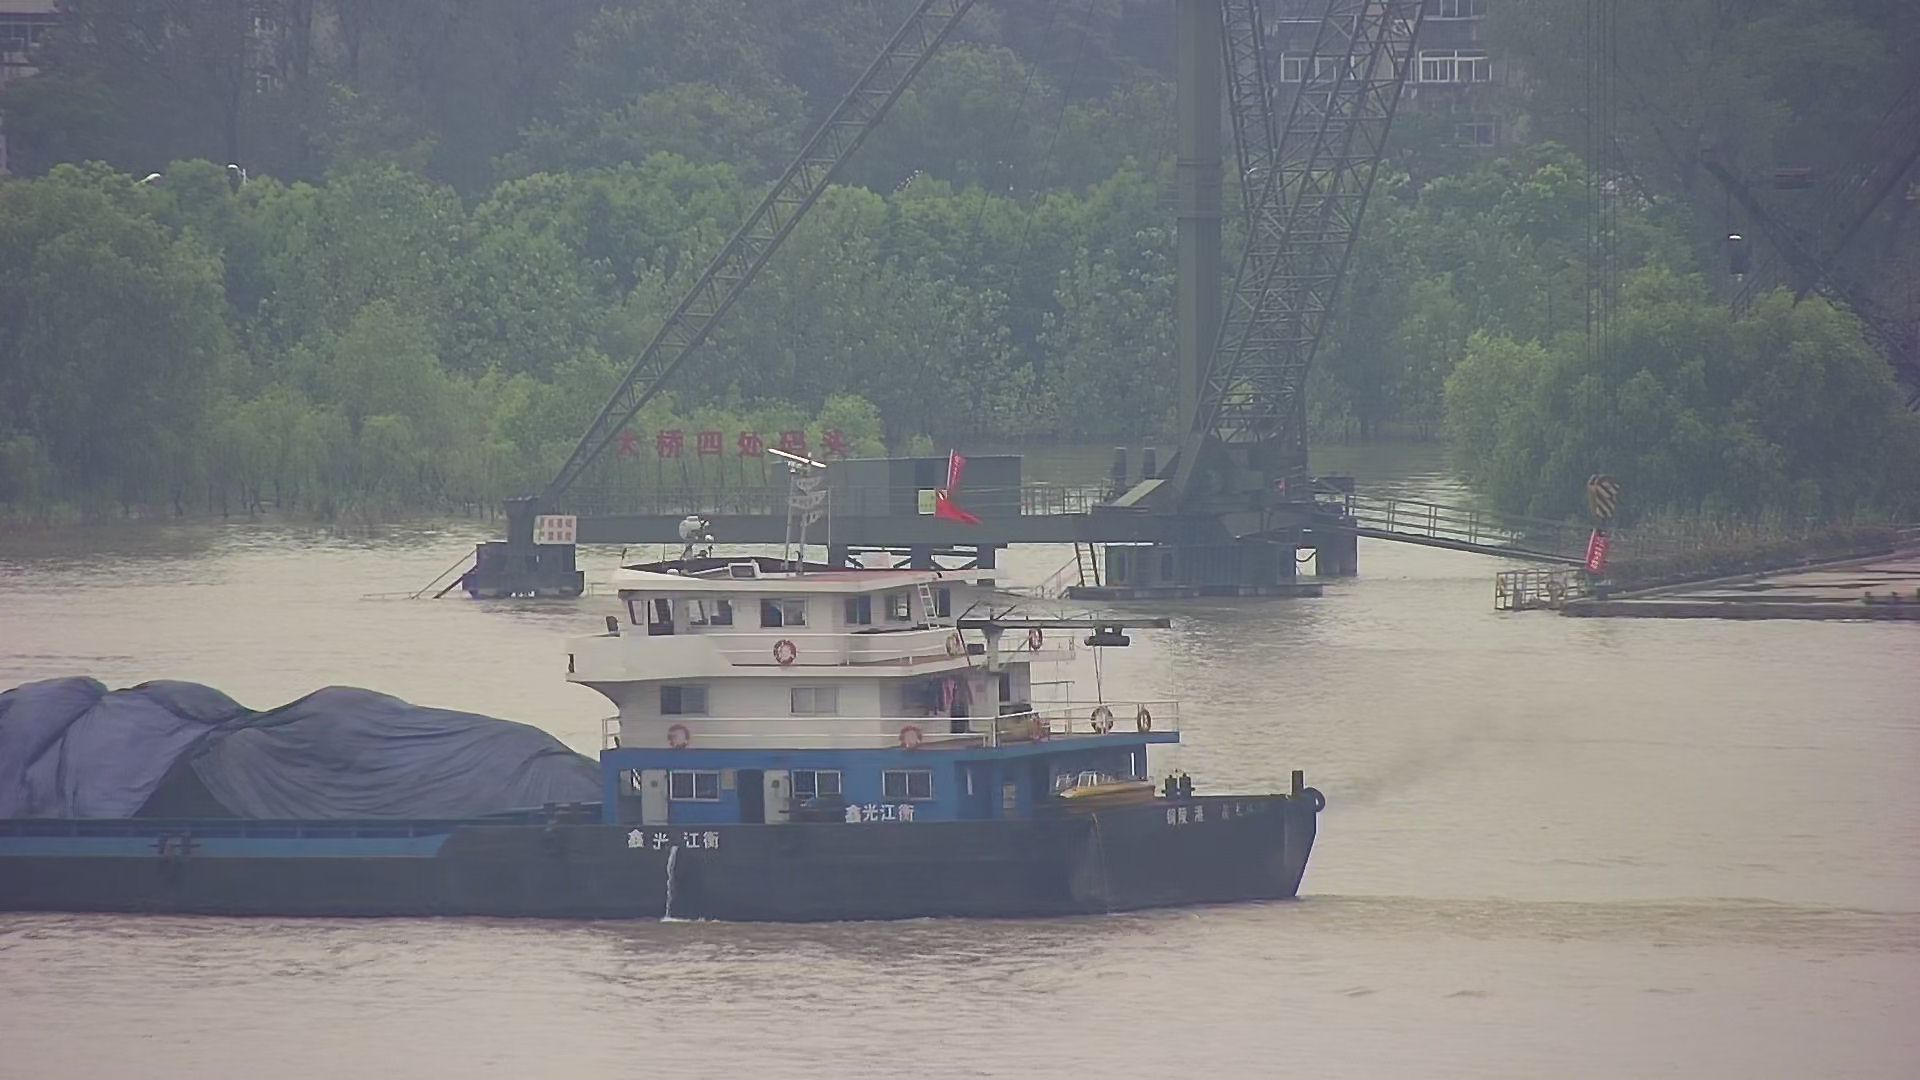platform: (406, 1, 1403, 611)
ship: (1, 440, 1344, 936)
